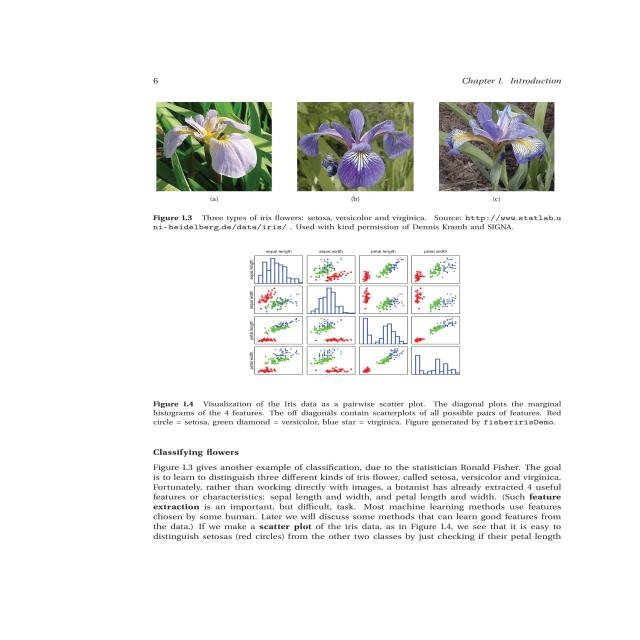diagram: (138, 88, 640, 440)
